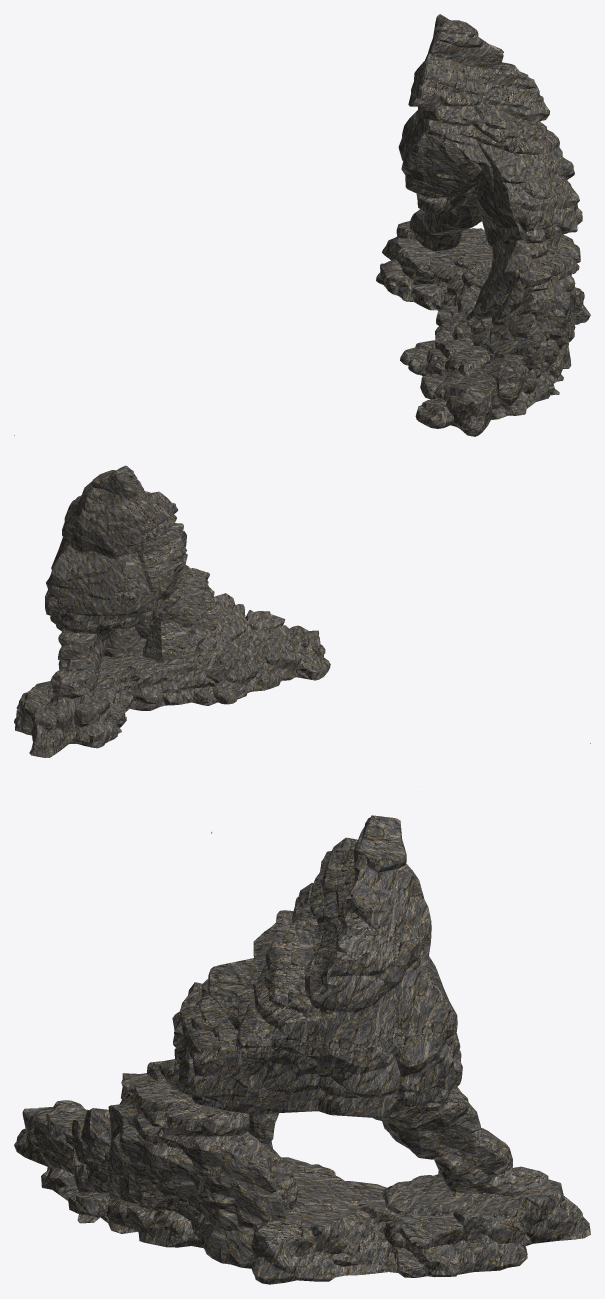
Rendered from ONE Rock with Hole.fbx.
3 views of the same model, one above another, from view 1: azimuth 30°, elevation 25°; view 2: azimuth 150°, elevation 25°; view 3: azimuth 270°, elevation 25° (orthographic). The views are drawn at different scales.
Visible parts, largest first — view 1: world.002; view 2: world.002; view 3: world.002.
Boxes of the visible parts, left/top/right/bottom form: world.002: left=14, top=14, right=590, bottom=436; world.002: left=14, top=465, right=590, bottom=757; world.002: left=14, top=815, right=590, bottom=1284.
Bounding box in the file's own units: 165 × 78.39 × 102.
Materials: 1 (1 with a texture image).
